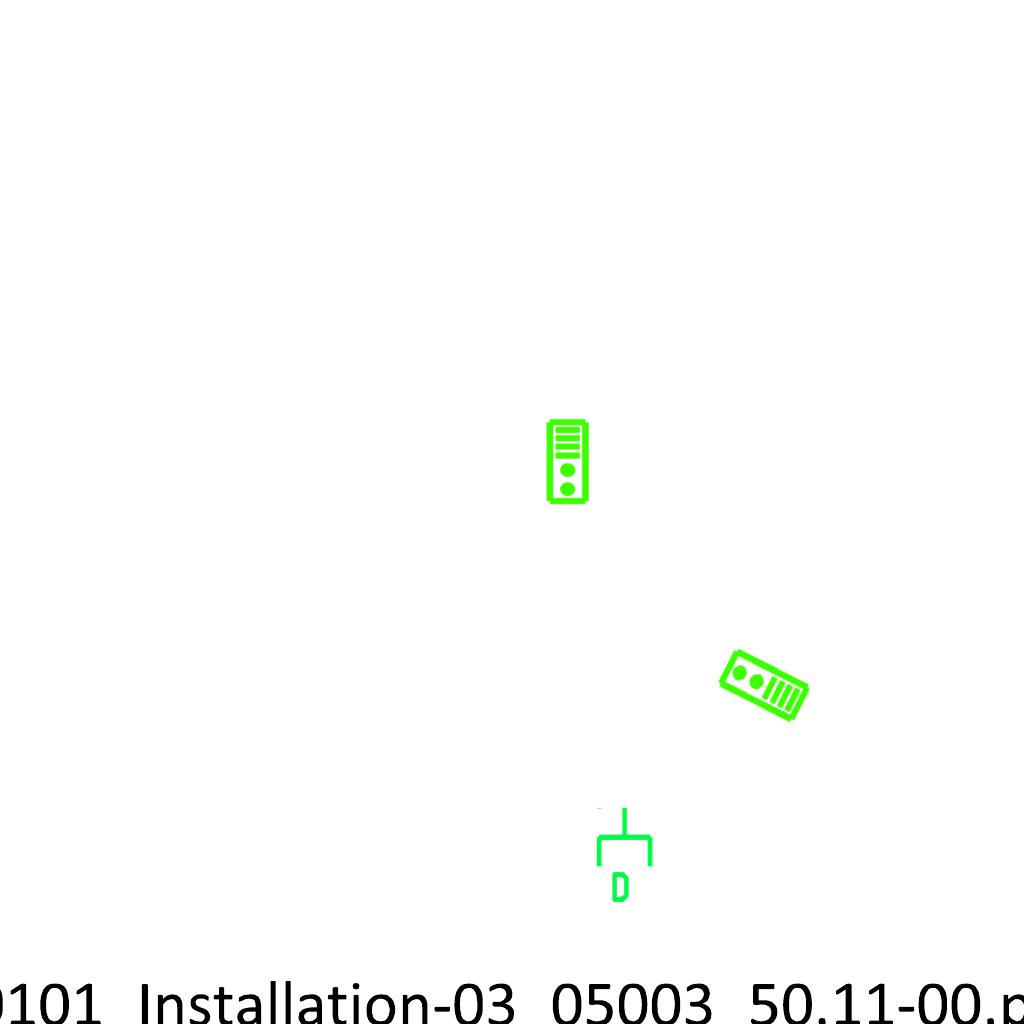Datenanschluss_einfach: (592, 805, 661, 905)
Gegensprechanlage_mit_Video: (713, 645, 814, 727), (545, 418, 592, 506)
